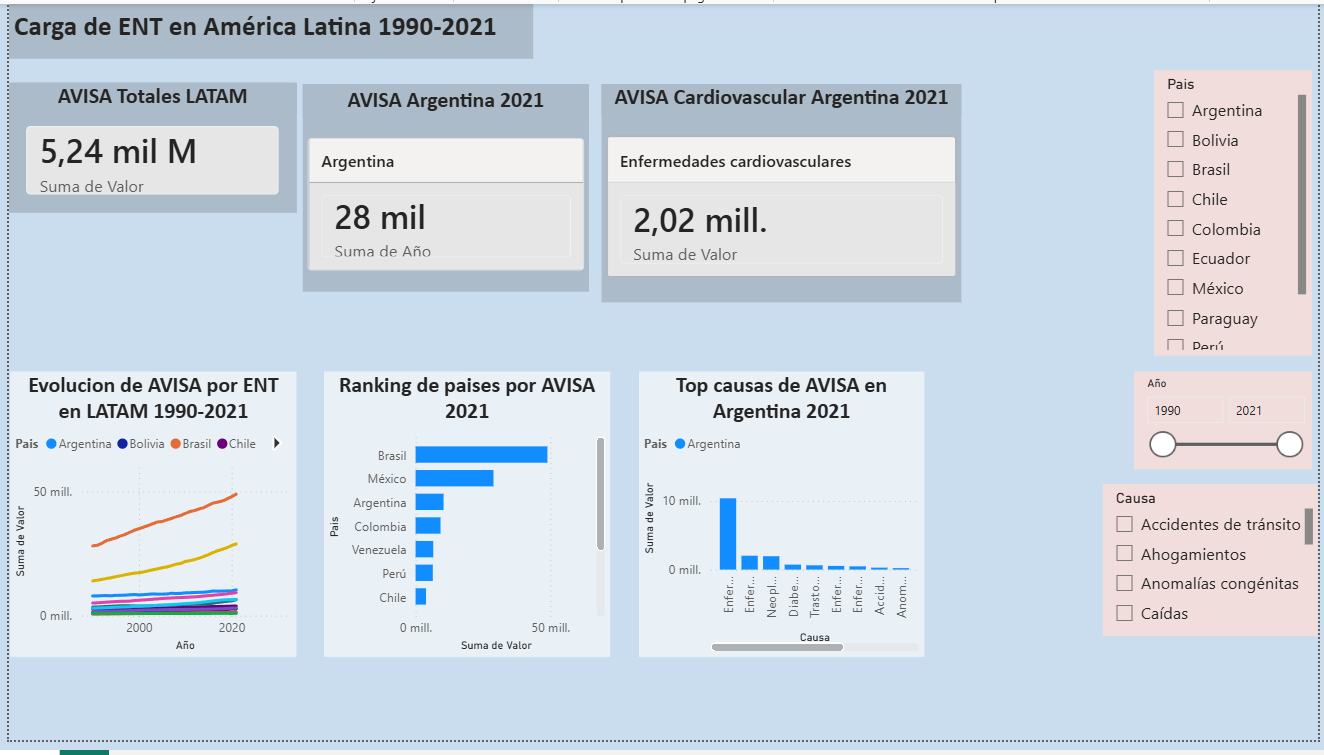

The page's visual inventory and layout, read from the dashboard file:
{"tool":"powerbi","page":{"name":"Página 1","canvas":[1280,720],"ordinal":0},"visuals":[{"type":"cardVisual","title":"AVISA Totales LATAM","fields":{"Data":["Sum(gbd_powerbi3.valor)","Sum(gbd_powerbi3.valor)"]},"box":[0,77,281.3,127.2],"z":1000},{"type":"cardVisual","title":"AVISA Argentina 2021","fields":{"Rows":["gbd_powerbi3.pais","gbd_powerbi3.anio"],"Data":["Sum(gbd_powerbi3.anio)","Sum(gbd_powerbi3.anio)"]},"box":[287.4,78.3,280,203],"z":2000},{"type":"cardVisual","title":"AVISA Cardiovascular Argentina 2021","fields":{"Data":["Sum(gbd_powerbi3.valor)","Sum(gbd_powerbi3.valor)"],"Rows":["gbd_powerbi3.causa","gbd_powerbi3.causa","gbd_powerbi3.pais","gbd_powerbi3.pais","gbd_powerbi3.anio","gbd_powerbi3.anio"]},"box":[579.6,78.3,352.2,214],"z":3000},{"type":"lineChart","title":"Evolucion de AVISA por ENT en LATAM 1990-2021","fields":{"Category":["gbd_powerbi3.anio"],"Y":["Sum(gbd_powerbi3.valor)"],"Series":["gbd_powerbi3.pais"]},"box":[1.2,359.5,280,278.8],"z":4000},{"type":"barChart","title":"Ranking de paises por AVISA 2021","fields":{"Category":["gbd_powerbi3.pais"],"Y":["Sum(gbd_powerbi3.valor)"]},"box":[308.2,359.5,280,278.8],"z":5000},{"type":"clusteredColumnChart","title":"Top causas de AVISA en Argentina 2021","fields":{"Category":["gbd_powerbi3.causa"],"Y":["Sum(gbd_powerbi3.valor)"],"Series":["gbd_powerbi3.pais"]},"box":[616.3,359.5,278.8,278.8],"z":6000},{"type":"slicer","fields":{"Values":["gbd_powerbi3.anio"]},"box":[1100.5,359.5,173.6,95.4],"z":7000},{"type":"slicer","fields":{"Values":["gbd_powerbi3.causa"]},"box":[1070,469.6,210.3,149.2],"z":8000},{"type":"textbox","box":[0,0,512.7,53.5],"z":9000},{"type":"slicer","fields":{"Values":["gbd_powerbi3.pais"]},"box":[1120.1,64.8,154.1,278.8],"z":9500}]}

Visuals, with their boxes in screenshot pixels (x1, y1, x2, y2), scaled from the page's 1280x720 canvas onto the 1324x755 screenshot:
"AVISA Totales LATAM" cardVisual: 0, 81, 291, 214
"AVISA Argentina 2021" cardVisual: 297, 82, 587, 295
"AVISA Cardiovascular Argentina 2021" cardVisual: 600, 82, 964, 307
"Evolucion de AVISA por ENT en LATAM 1990-2021" lineChart: 1, 377, 291, 669
"Ranking de paises por AVISA 2021" barChart: 319, 377, 608, 669
"Top causas de AVISA en Argentina 2021" clusteredColumnChart: 637, 377, 926, 669
slicer - gbd_powerbi3.anio: 1138, 377, 1318, 477
slicer - gbd_powerbi3.causa: 1107, 492, 1323, 649
textbox: 0, 0, 530, 56
slicer - gbd_powerbi3.pais: 1159, 68, 1318, 360
